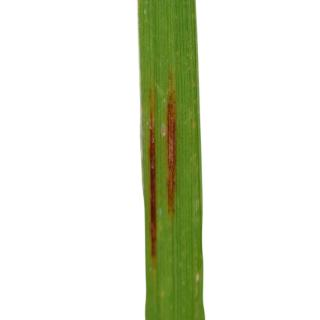Bercak-Cokelat-Sempit: (139, 84, 159, 267), (164, 74, 182, 219)
